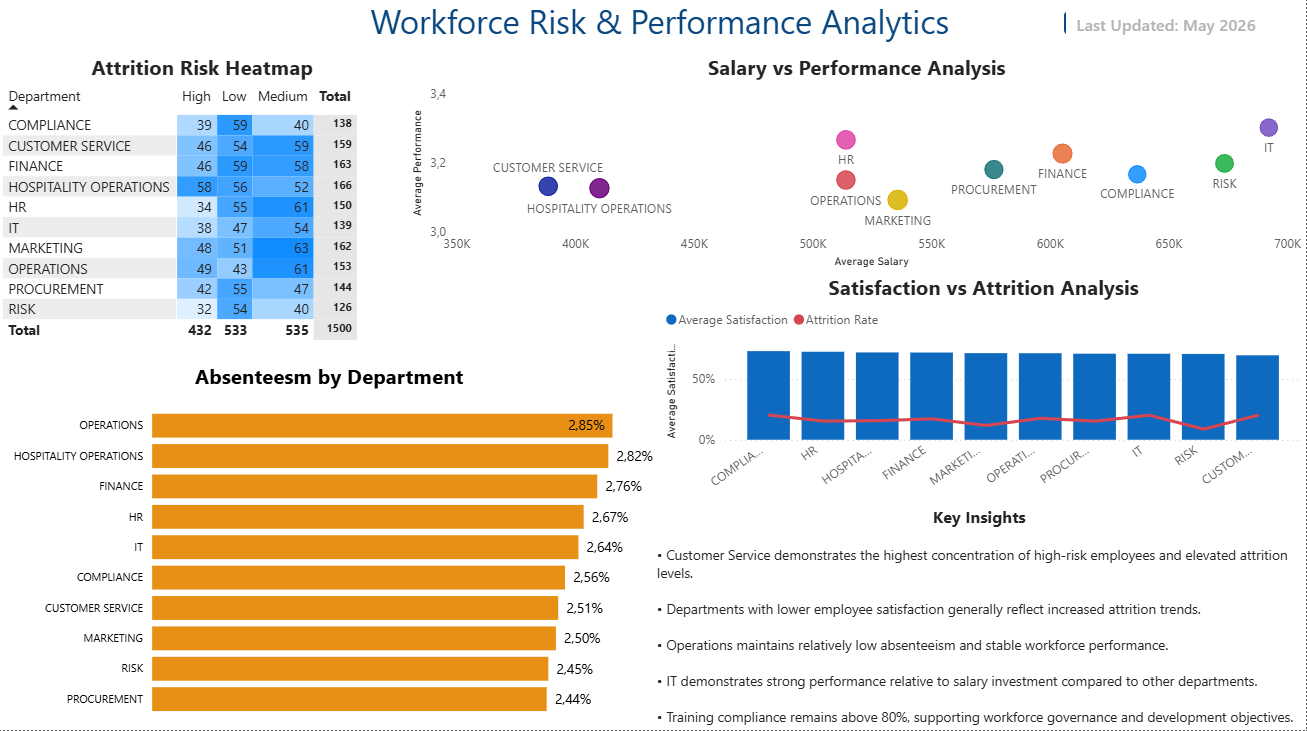

This screenshot's page, from the dashboard's own definition file:
{"tool":"powerbi","page":{"name":"Workforce Risk & Performance Analytics","canvas":[1280,720],"ordinal":1},"visuals":[{"type":"barChart","title":"Absenteesm by Department","fields":{"Category":["Dim_Department.Department"],"Y":["Measures (2).Average Absenteeism"]},"box":[0,359.5,648.1,359.5],"z":0},{"type":"textbox","box":[335.1,0,624.9,69.7],"z":1000},{"type":"cardVisual","fields":{"Data":["Measures (2).Last Refreshed"]},"box":[1026,0,254.3,57.5],"z":2000},{"type":"pivotTable","title":"Attrition Risk Heatmap","fields":{"Rows":["Dim_Department.Department"],"Columns":["Employee_Data.Attrition_Risk"],"Values":["Measures (2).Employee Count"]},"box":[0,57.5,399.9,302],"z":3000},{"type":"lineClusteredColumnComboChart","title":"Satisfaction vs Attrition Analysis","fields":{"Category":["Dim_Department.Department"],"Y":["Measures (2).Average Satisfaction"],"Y2":["Measures (2).Attrition Rate"]},"box":[648.1,272.7,632.2,222.6],"z":4000},{"type":"scatterChart","title":"Salary vs Performance Analysis","fields":{"X":["Measures (2).Average Salary"],"Y":["Measures (2).Average Performance"],"Series":["Dim_Department.Department"],"Size":["Measures (2).Headcount"]},"box":[399.9,57.5,880.4,215.2],"z":5000},{"type":"textbox","box":[639.5,495.2,640.8,225],"z":6000}]}

Visuals, with their boxes in screenshot pixels (x1, y1, x2, y2), scaled from the page's 1280x720 canvas onto the 1307x731 screenshot:
"Absenteesm by Department" barChart: box(0, 365, 662, 730)
textbox: box(342, 0, 980, 71)
cardVisual - Measures (2).Last Refreshed: box(1048, 0, 1306, 58)
"Attrition Risk Heatmap" pivotTable: box(0, 58, 408, 365)
"Satisfaction vs Attrition Analysis" lineClusteredColumnComboChart: box(662, 277, 1306, 503)
"Salary vs Performance Analysis" scatterChart: box(408, 58, 1306, 277)
textbox: box(653, 503, 1306, 730)
